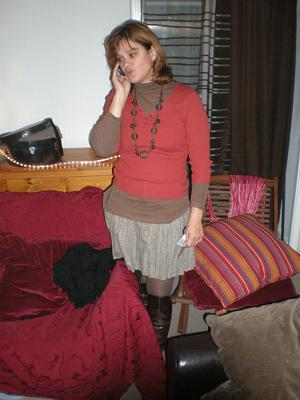person: (87, 18, 213, 362)
